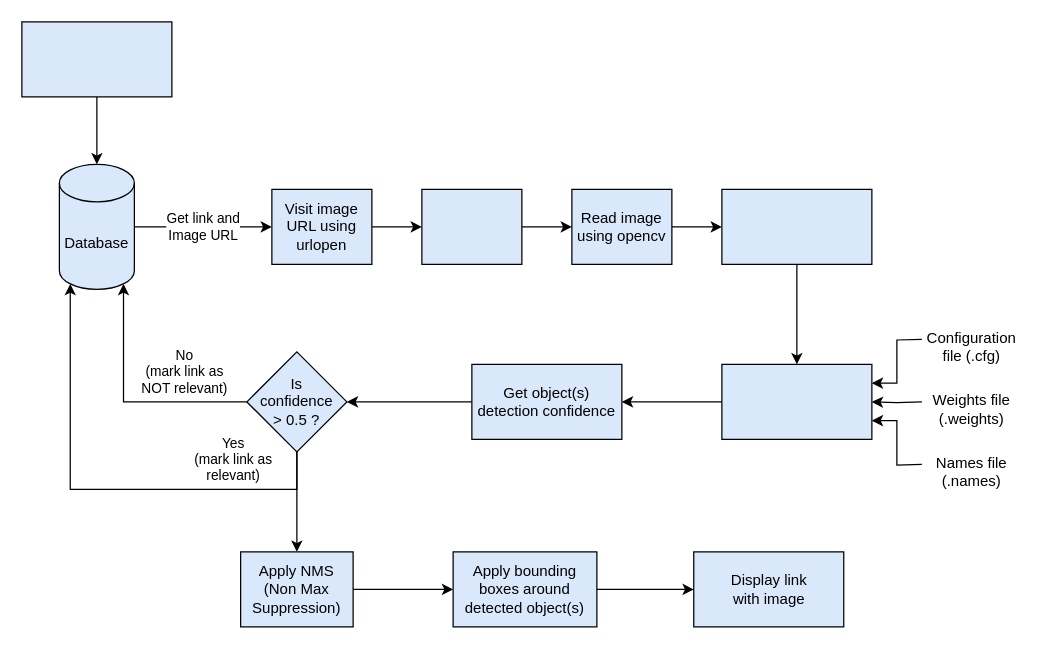
The diagram is 1044 pixels wide and 649 high, and some of its shapes have lost their labels. The shapes that lost their labels are listed below. From the top down, each one's box as (x1, y1, x2, y2) in pixels, then its label:
(21, 21, 172, 97): Previously crawled keyword/ seed url with module used
(421, 188, 522, 264): Convert to byte array
(721, 188, 872, 264): Convert image to blob (Binary Large Object)
(721, 363, 872, 439): YOLO model
